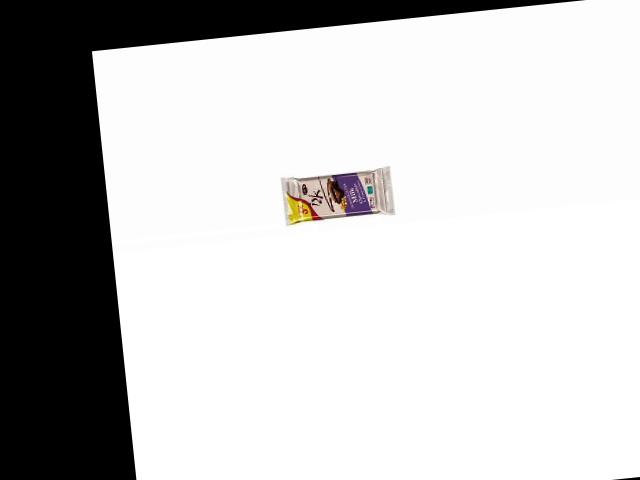chocolate: (277, 161, 396, 229)
